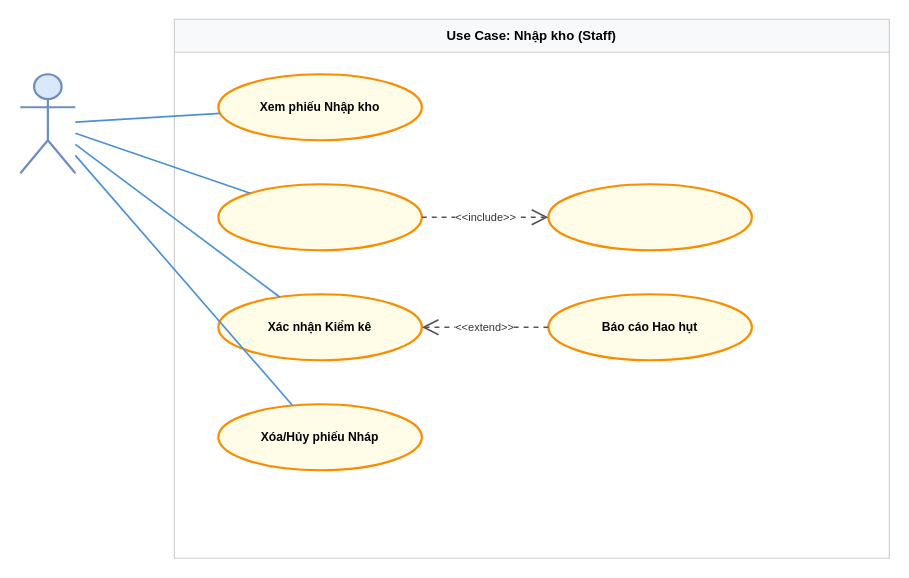
The diagram is 909 pixels wide and 578 high, and some of its shapes have lost their labels. The centre of each missing label's shape, as x and y in pixels:
Chọn Nhà cung cấp: the point at 649,217
Lập phiếu Nhập kho: the point at 319,217
Staff: the point at 47,123
